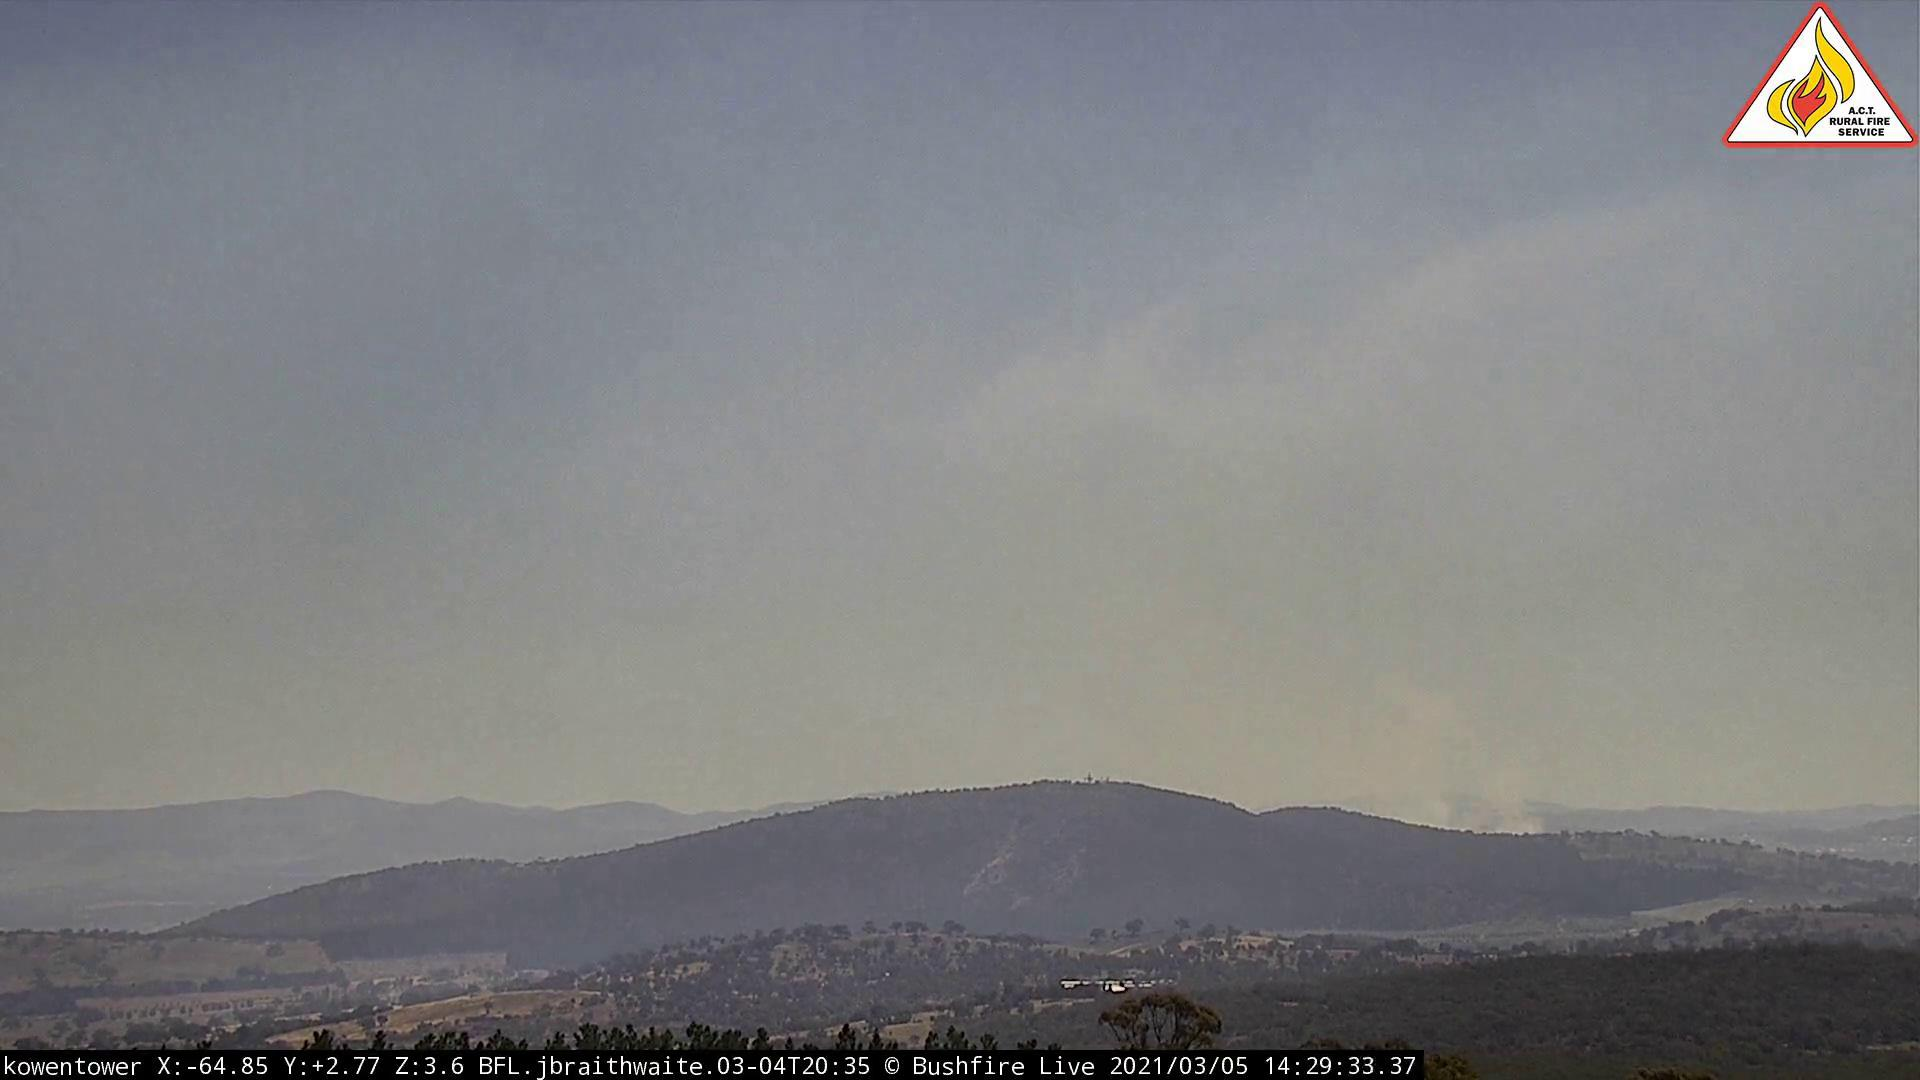Smoke: (1063, 553, 1548, 843)
